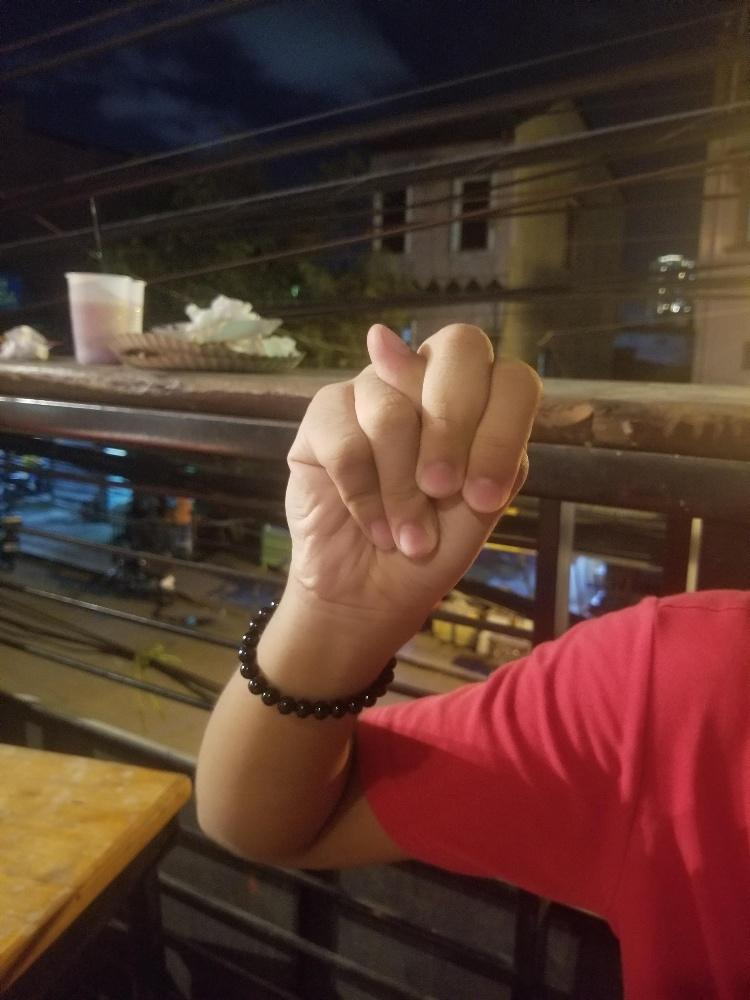n: (283, 322, 542, 596)
